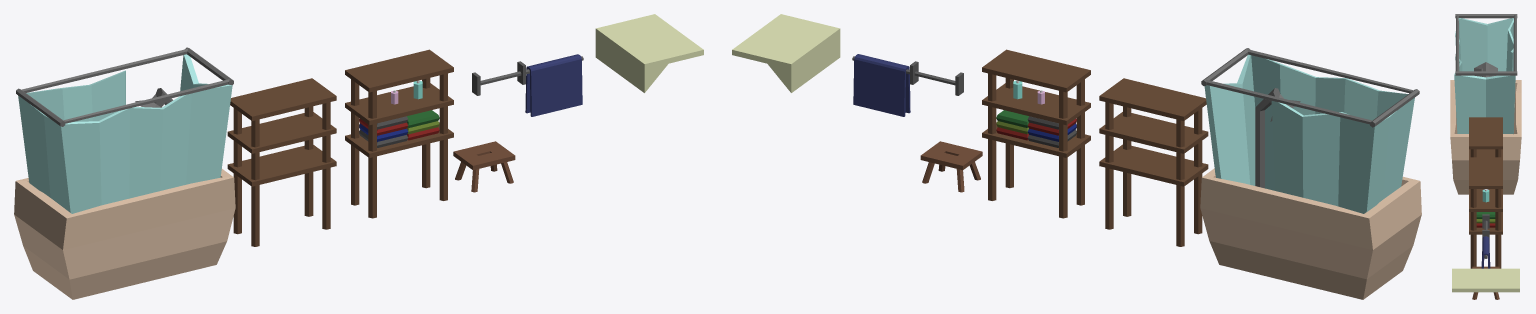
Rendered from BathroomFurniture.fbx.
The picture shows the model from 3 angles, left to right: view 1: azimuth 30°, elevation 25°; view 2: azimuth 150°, elevation 25°; view 3: azimuth 270°, elevation 25°; orthographic projection. The views are drawn at different scales.
Visible parts, largest first — view 1: bathtub, slideShelfWithStuff, slideShelf, shelf, towelRackWithTowel, stool; view 2: bathtub, slideShelfWithStuff, slideShelf, shelf, towelRackWithTowel, stool; view 3: bathtub, slideShelfWithStuff, shelf, slideShelf, towelRackWithTowel, stool, mount.
Part boxes in pixels (left/top/right/bottom): bathtub: left=14, top=47, right=235, bottom=299; slideShelfWithStuff: left=345, top=49, right=453, bottom=218; slideShelf: left=227, top=78, right=336, bottom=246; shelf: left=595, top=14, right=703, bottom=92; towelRackWithTowel: left=517, top=54, right=583, bottom=116; stool: left=453, top=141, right=515, bottom=192; bathtub: left=1200, top=48, right=1421, bottom=299; slideShelfWithStuff: left=982, top=49, right=1090, bottom=218; slideShelf: left=1099, top=78, right=1208, bottom=246; shelf: left=732, top=14, right=840, bottom=92; towelRackWithTowel: left=852, top=54, right=918, bottom=116; stool: left=920, top=141, right=982, bottom=192; bathtub: left=1450, top=14, right=1521, bottom=194; slideShelfWithStuff: left=1469, top=157, right=1502, bottom=268; shelf: left=1452, top=268, right=1519, bottom=292; slideShelf: left=1469, top=117, right=1502, bottom=157; towelRackWithTowel: left=1481, top=230, right=1490, bottom=268; stool: left=1472, top=266, right=1499, bottom=299; mount: left=1482, top=214, right=1489, bottom=228.
Size of the model in its own units: 7.57 by 2.07 by 1.05.
